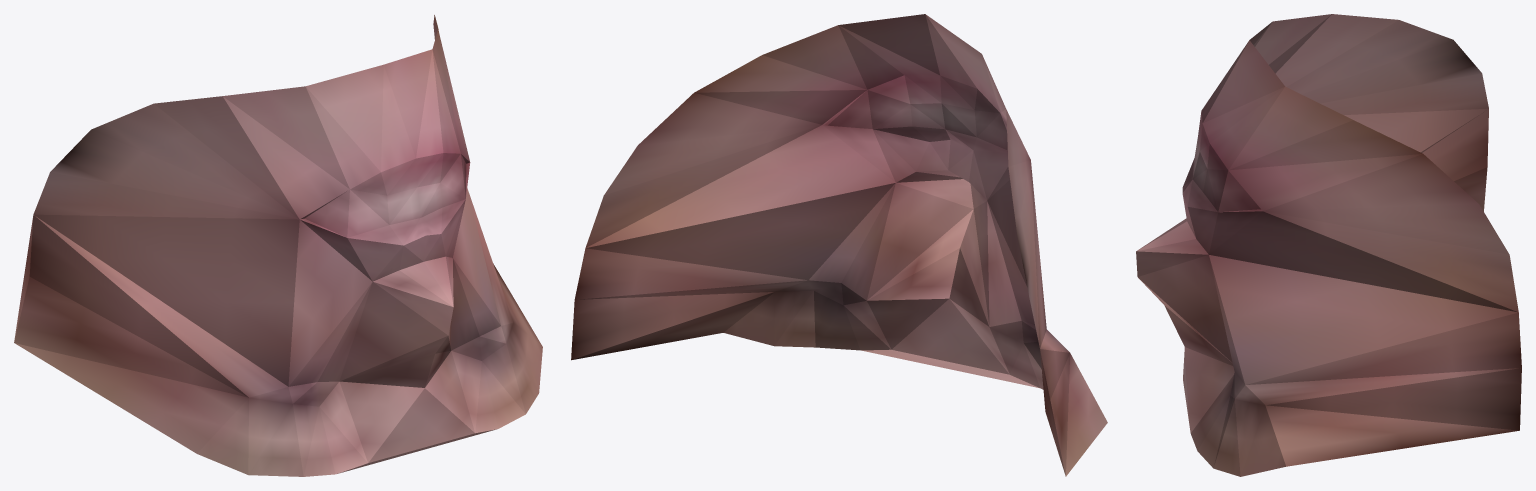
The model's file is real_63395.obj.
3 views of the same model, side by side, from view 1: azimuth 30°, elevation 25°; view 2: azimuth 150°, elevation 25°; view 3: azimuth 270°, elevation 25° (orthographic). The views are drawn at different scales.
Bounding box in the file's own units: 104 × 79 × 75.14.
